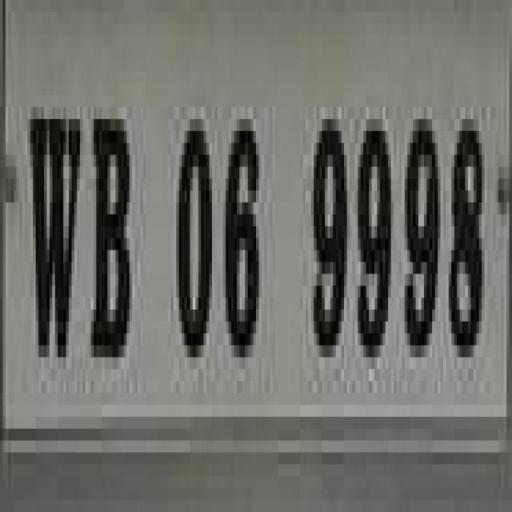number plate: (13, 0, 512, 464)
